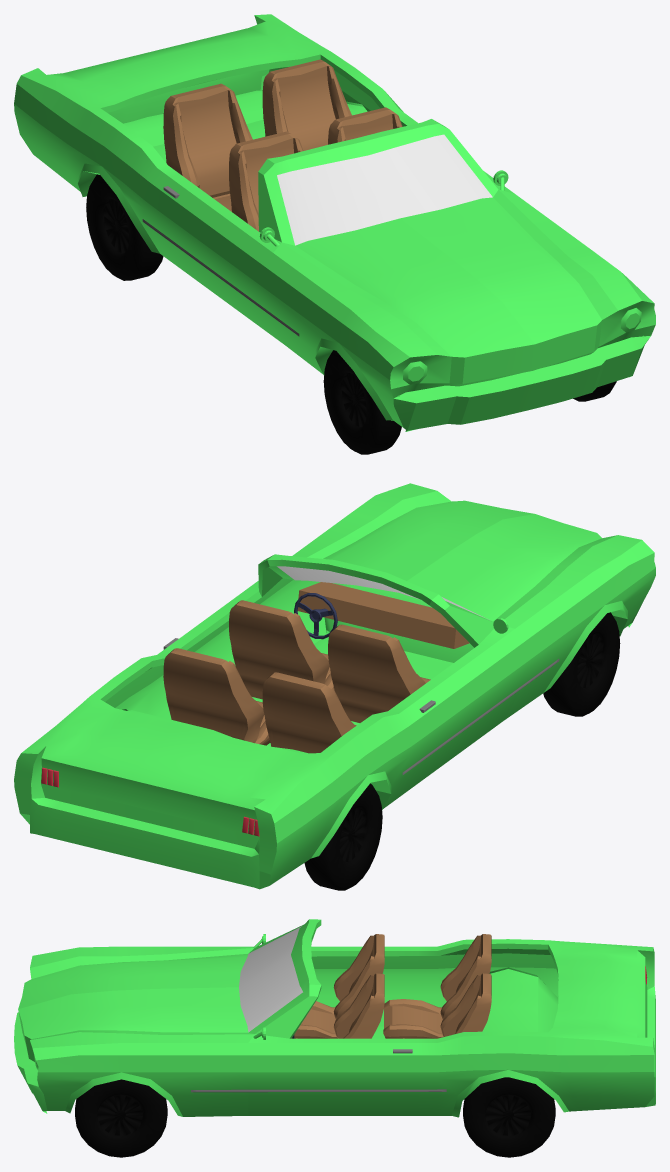
File: carmodel(green).fbx
The picture shows the model from 3 angles, top to bottom: view 1: azimuth 30°, elevation 25°; view 2: azimuth 150°, elevation 25°; view 3: azimuth 270°, elevation 25°; orthographic projection. The views are drawn at different scales.
Parts seen in each view (by area): view 1: bodywork, chairs, wheel in front right, wheel in back right, side add ons; view 2: bodywork, chairs, dashboard, wheel in back right, wheel in front right, steering wheel, side add ons; view 3: bodywork, chairs, wheel in back left, wheel in front left, side add ons.
Part boxes in pixels (x1,y1,x2,y2): bodywork: [14, 14, 655, 431]; chairs: [163, 59, 402, 231]; wheel in front right: [323, 350, 401, 454]; wheel in back right: [86, 174, 163, 280]; side add ons: [142, 186, 299, 336]; bodywork: [14, 483, 655, 889]; chairs: [163, 600, 430, 753]; dashboard: [297, 582, 469, 648]; wheel in back right: [304, 783, 382, 890]; wheel in front right: [543, 612, 620, 716]; steering wheel: [294, 593, 337, 639]; side add ons: [163, 638, 559, 774]; bodywork: [14, 919, 655, 1117]; chairs: [292, 934, 491, 1038]; wheel in back left: [463, 1077, 555, 1157]; wheel in front left: [75, 1079, 167, 1157]; side add ons: [191, 1049, 446, 1092].
Size of the model in its own units: 134 by 93.9 by 336.
